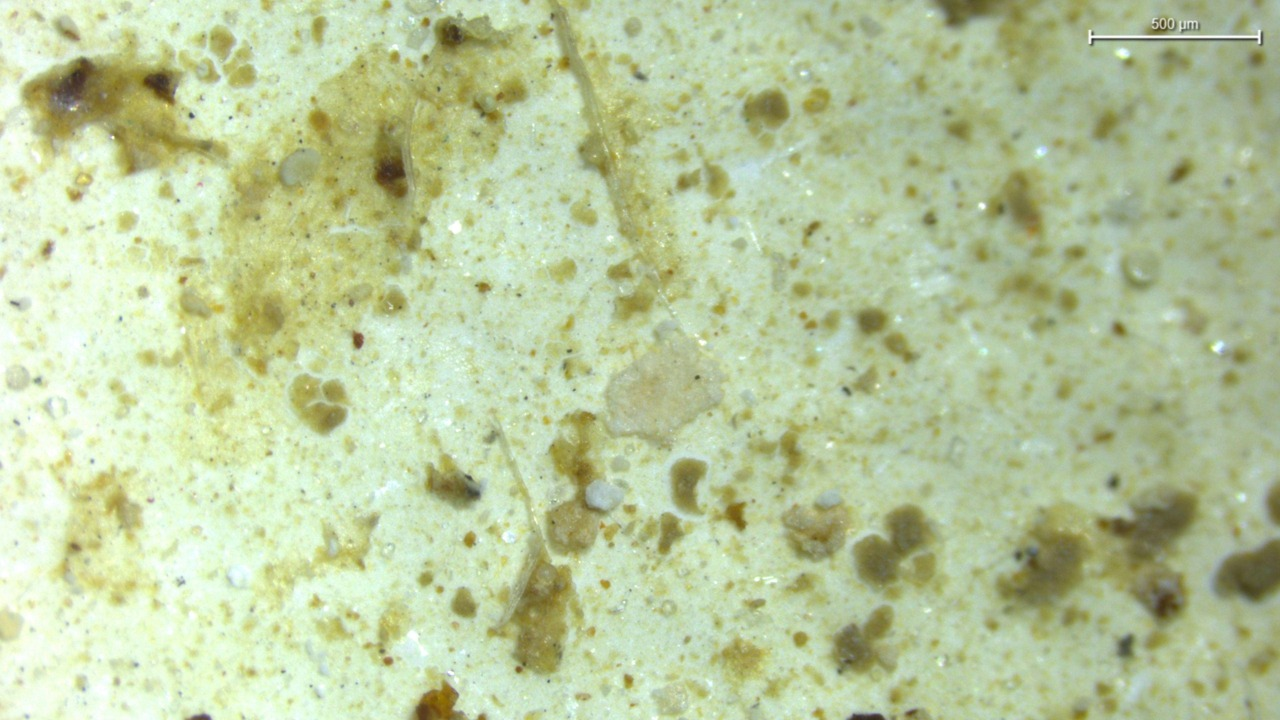microplastic_fragment: (606, 324, 723, 441), (279, 149, 321, 185), (585, 479, 625, 512), (815, 489, 841, 509)
